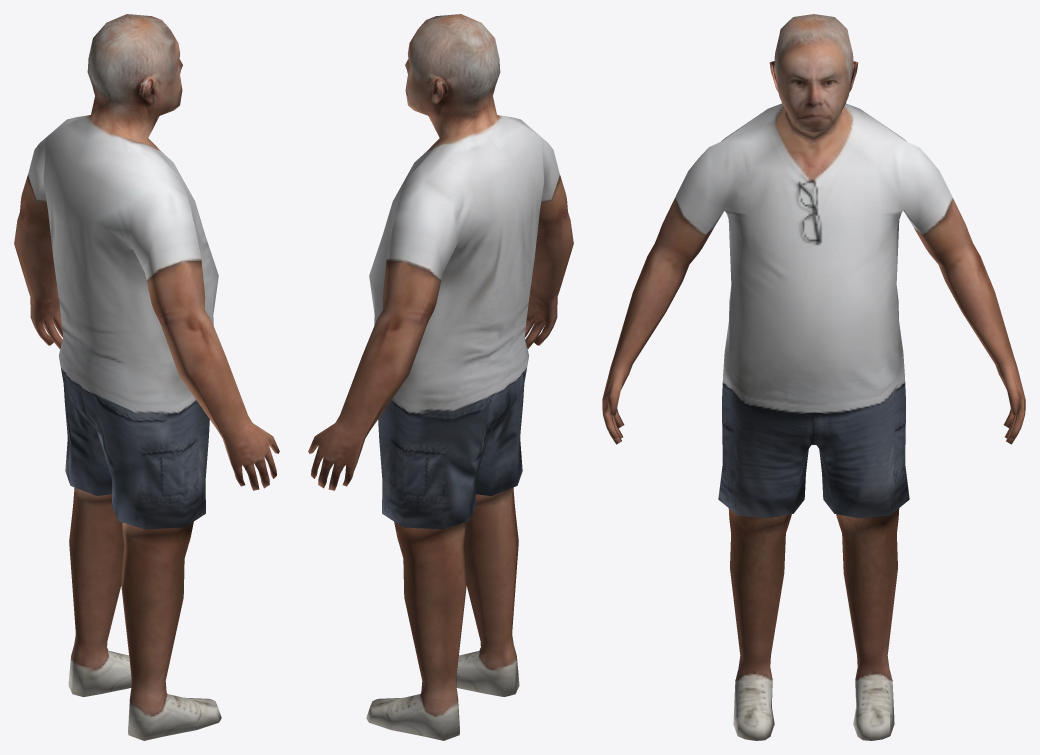
Rendered from Character_Male_53.fbx.
3 views of the same model, side by side, from view 1: azimuth 30°, elevation 25°; view 2: azimuth 150°, elevation 25°; view 3: azimuth 270°, elevation 25° (orthographic).
Visible parts, largest first — view 1: Character_Male_53; view 2: Character_Male_53; view 3: Character_Male_53.
Boxes of the visible parts, <box> form: Character_Male_53: <box>14,14,279,740</box>; Character_Male_53: <box>308,14,573,740</box>; Character_Male_53: <box>602,14,1025,740</box>.
Bounding box in the file's own units: 0.3627 × 1.7 × 0.9402.
